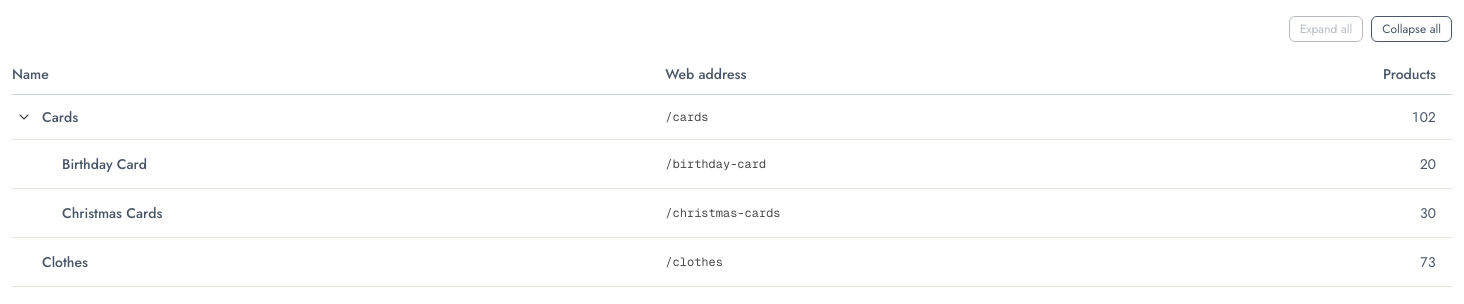
Test: CategoryTable › opens again
Click the button named "Collapse Cards". click: (24, 117)
box: top-left (12, 105), bottom-right (36, 129)
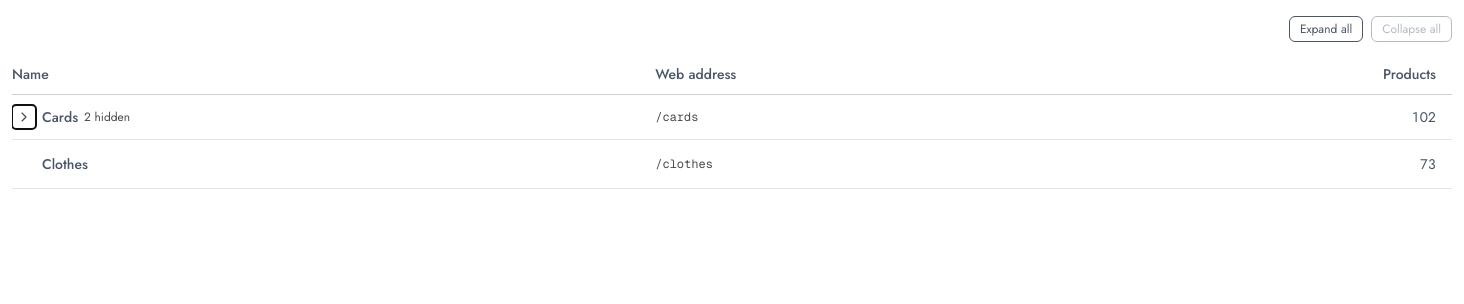
Click the button named "Expand Cards". click: (24, 117)
box: top-left (12, 105), bottom-right (36, 129)
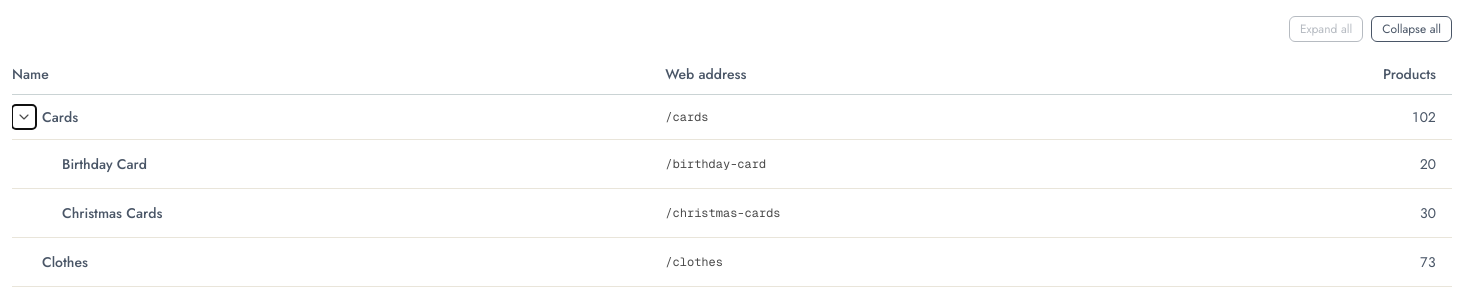
expect the link "Birthday Card" is shown: met, box top-left (62, 154), bottom-right (147, 174)
